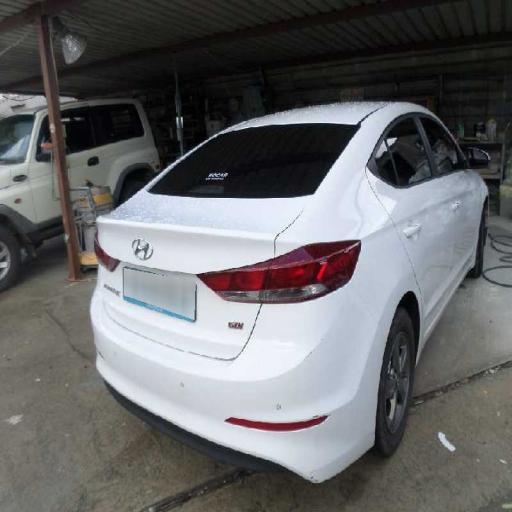normal: (86, 70, 496, 481)
